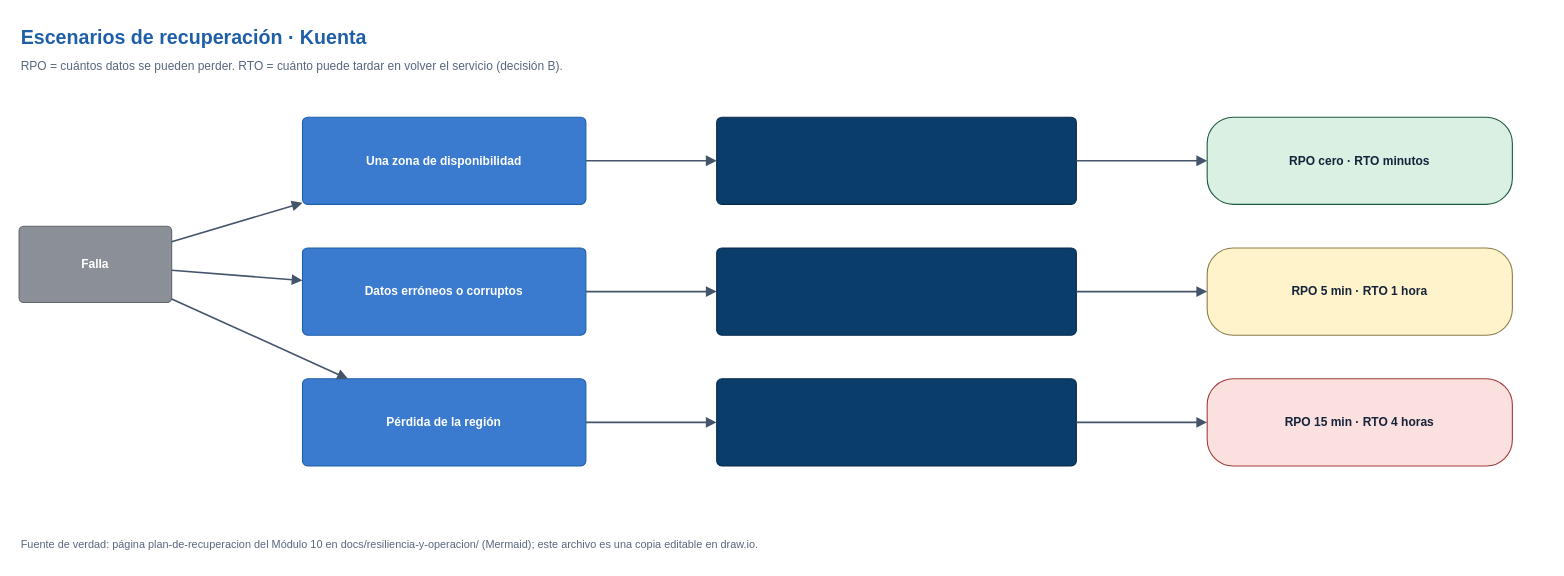
This 1564x576 diagram has some shape labels left out. Here are the shapes that lost their labels. From the top down, the centre of each, then its label:
At pixel 896 160: "Failover automático de RDS Multi-AZ".
At pixel 896 291: "Restauración a un instante en una instancia nueva".
At pixel 896 422: "Respaldo en otra región más código de infraestructura".
